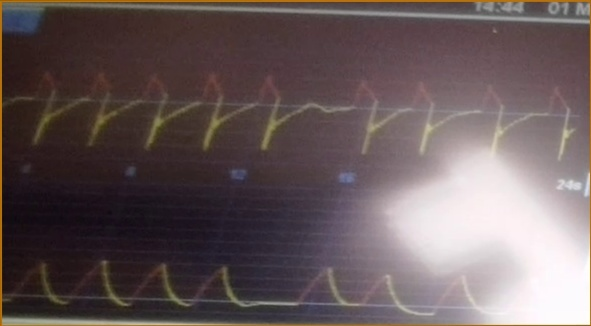Ineffective_effort Flow: (4, 61, 580, 160)
Ineffective_effort Volume: (4, 238, 511, 316)
